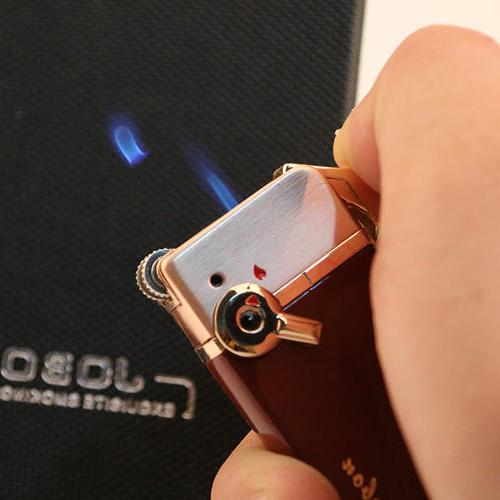fire: (95, 113, 248, 228)
